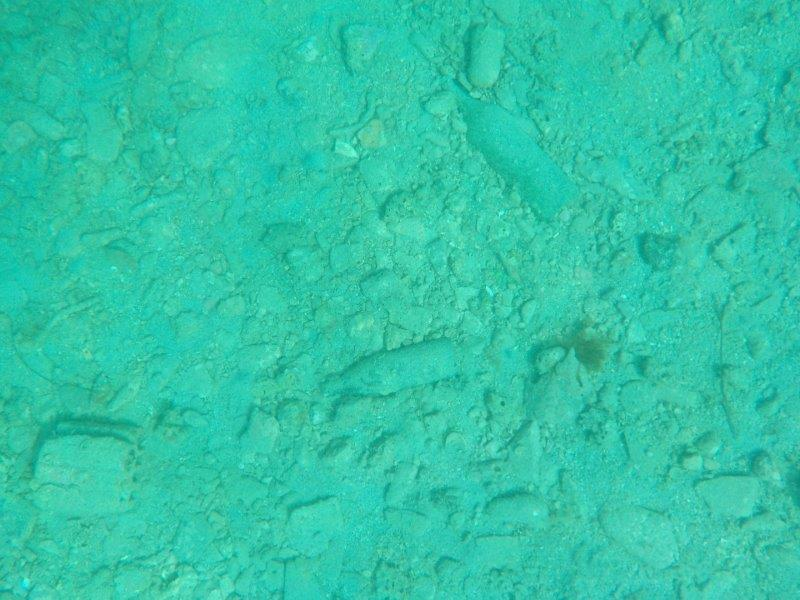bottle: (436, 74, 581, 224), (316, 334, 458, 405)
